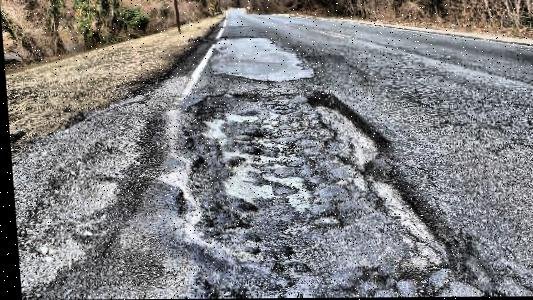pothole: (339, 246, 481, 298), (305, 93, 389, 164), (364, 174, 439, 243), (191, 97, 224, 141)
